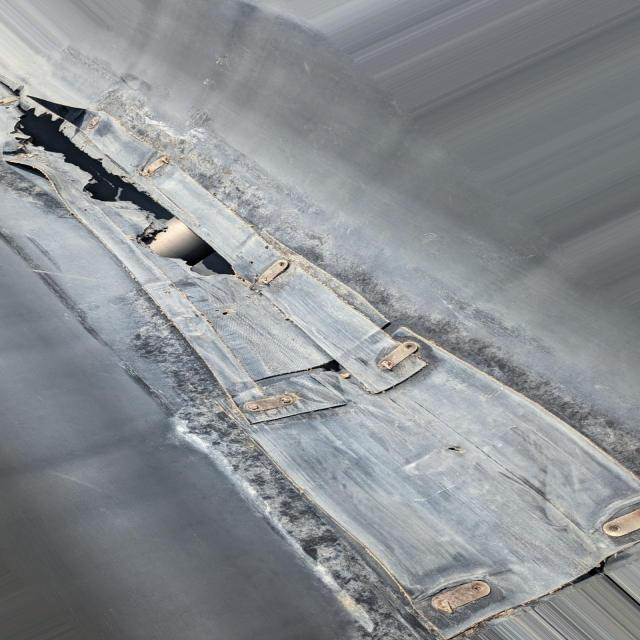Hole: (22, 108, 236, 275)
patch work: (0, 88, 640, 637)
